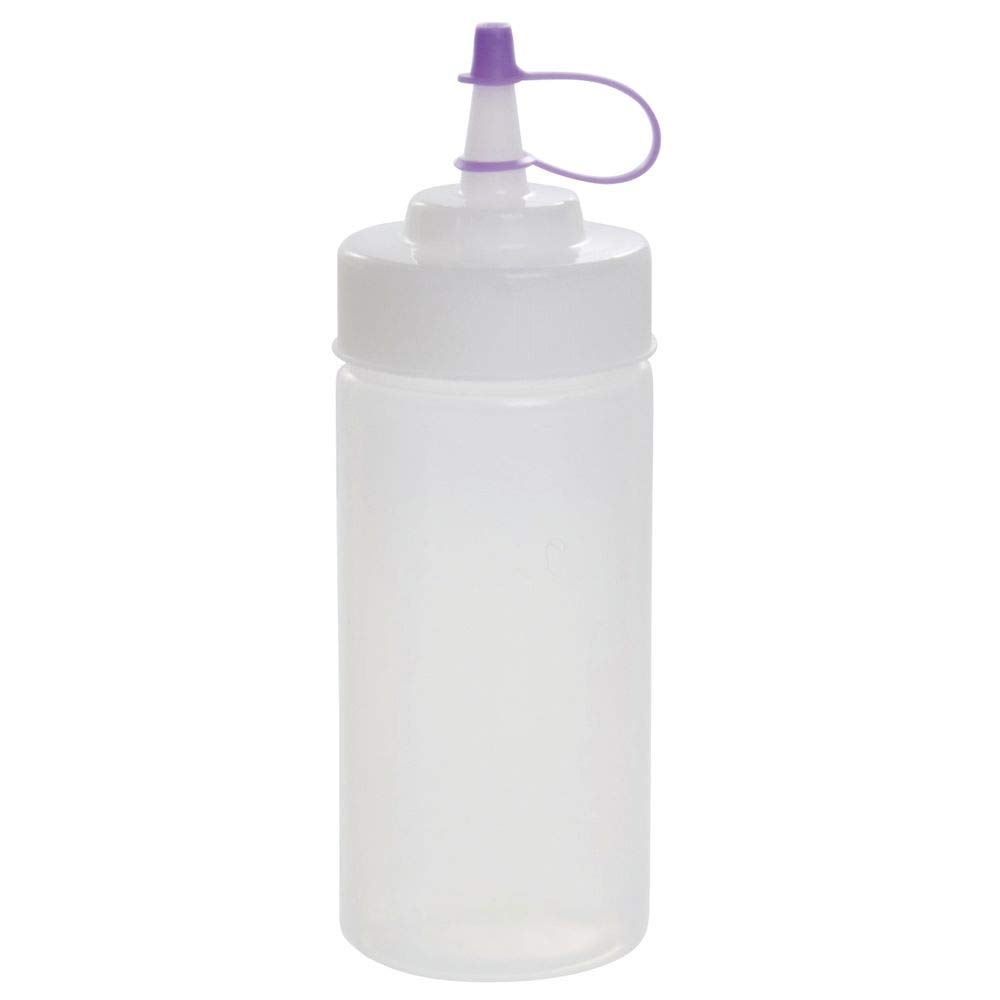plastic: (326, 16, 678, 984)
